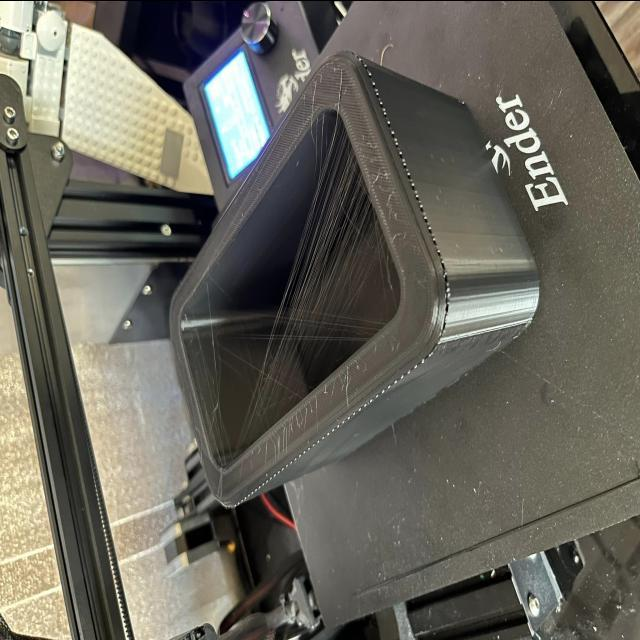Stringing: (233, 125, 383, 433)
